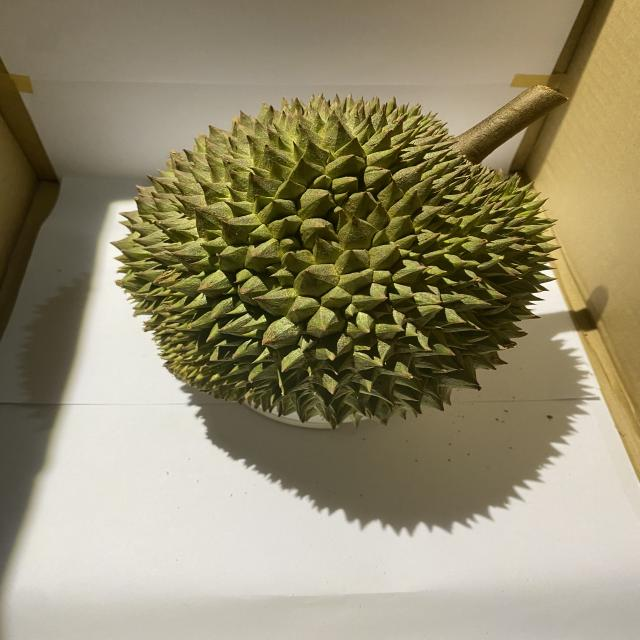immature: (103, 89, 566, 430)
